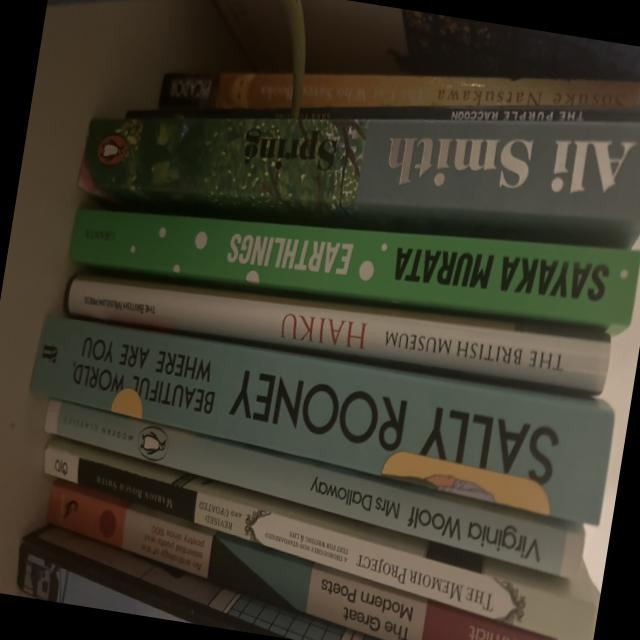book: (24, 314, 617, 524), (30, 434, 608, 640), (37, 398, 589, 581), (68, 183, 640, 337), (39, 480, 554, 640), (78, 112, 640, 249), (63, 259, 612, 395), (300, 73, 640, 118), (302, 105, 640, 122), (160, 71, 292, 112)
